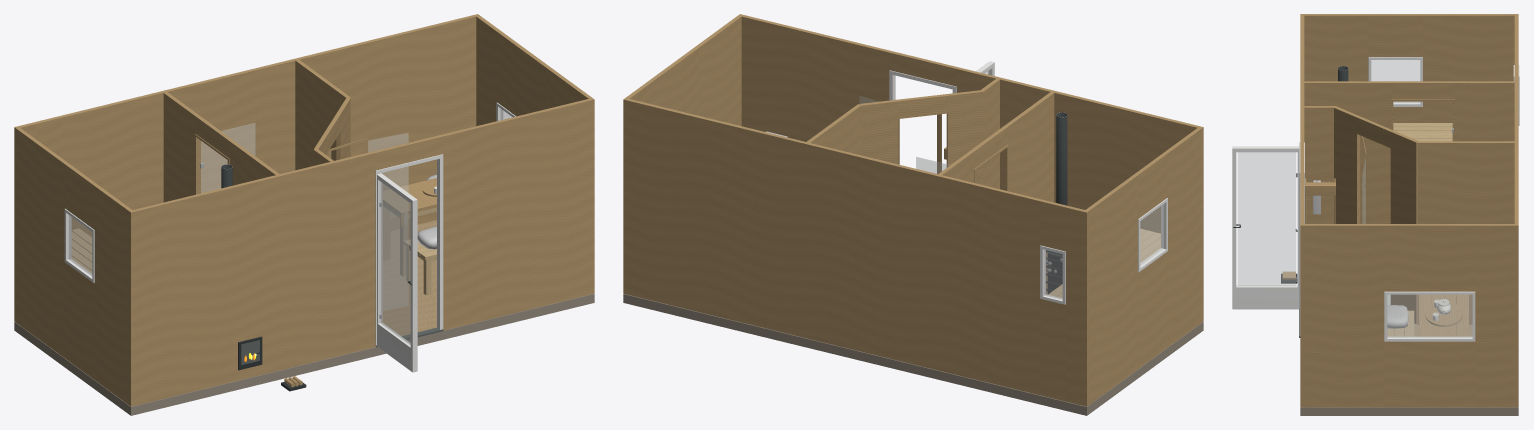
The picture shows the model from 3 angles, left to right: view 1: azimuth 30°, elevation 25°; view 2: azimuth 150°, elevation 25°; view 3: azimuth 270°, elevation 25°; orthographic projection. The views are drawn at different scales.
Parts seen in each view (by area): view 1: ПГ1 wall, ПГ2 wall, ПГ3 wall, DachaPar_19, Hinge_DP12-D03, ПГ4 wall, ПГ5 wall, Hinge_DP12-D01, ПГ6 wall, Door entry p12_i4476, С1 table, Window p12_i4531 (+5 smaller); view 2: ПГ2 wall, ПГ1 wall, ПГ3 wall, ПГ4 wall, DachaPar_19, ПГ5 wall, ПГ8 wall, ASTON dimensioned stove and remote firebox, Window p12_i4531, ПГ6 wall, Window p12_i4532, ПГ7 wall (+1 smaller); view 3: ПГ4 wall, ПГ3 wall, Hinge_DP12-D03, ПГ5 wall, ПГ6 wall, ПГ8 wall, Window p12_i4533, ПГ7 wall, DachaPar_19, С1 table, ПГ1 wall, ПГ2 wall (+7 smaller).
Boxes of the visible parts, box(x1,y1,x2,y2) form: ПГ1 wall: box(129, 98, 594, 406); ПГ2 wall: box(14, 14, 479, 322); ПГ3 wall: box(16, 128, 131, 404); DachaPar_19: box(14, 220, 594, 415); Hinge_DP12-D03: box(377, 173, 417, 372); ПГ4 wall: box(476, 15, 591, 125); ПГ5 wall: box(163, 92, 279, 202); Hinge_DP12-D01: box(368, 133, 408, 310); ПГ6 wall: box(295, 60, 350, 170); Door entry p12_i4476: box(375, 154, 443, 347); С1 table: box(383, 178, 436, 276); Window p12_i4531: box(64, 208, 94, 282); ПГ2 wall: box(623, 98, 1088, 406); ПГ1 wall: box(738, 14, 1203, 322); ПГ3 wall: box(1086, 128, 1201, 404); ПГ4 wall: box(626, 15, 741, 125); DachaPar_19: box(623, 292, 1203, 415); ПГ5 wall: box(938, 92, 1054, 291); ПГ8 wall: box(860, 90, 983, 184); ASTON dimensioned stove and remote firebox: box(1046, 112, 1067, 294); Window p12_i4531: box(1138, 198, 1167, 272); ПГ6 wall: box(807, 104, 861, 155); Window p12_i4532: box(1040, 245, 1065, 304); ПГ7 wall: box(980, 78, 999, 189); ПГ4 wall: box(1304, 224, 1514, 407); ПГ3 wall: box(1304, 14, 1514, 122); Hinge_DP12-D03: box(1232, 146, 1299, 309); ПГ5 wall: box(1304, 81, 1514, 223); ПГ6 wall: box(1417, 141, 1514, 324); ПГ8 wall: box(1334, 106, 1418, 323); Window p12_i4533: box(1384, 291, 1475, 341); ПГ7 wall: box(1304, 106, 1335, 223); DachaPar_19: box(1300, 294, 1518, 415); С1 table: box(1419, 294, 1468, 336); ПГ1 wall: box(1300, 14, 1304, 407); ПГ2 wall: box(1514, 14, 1518, 407).
Bounding box in the file's own units: 5.52 × 2.36 × 3.15.
31 materials, 12 textured.
